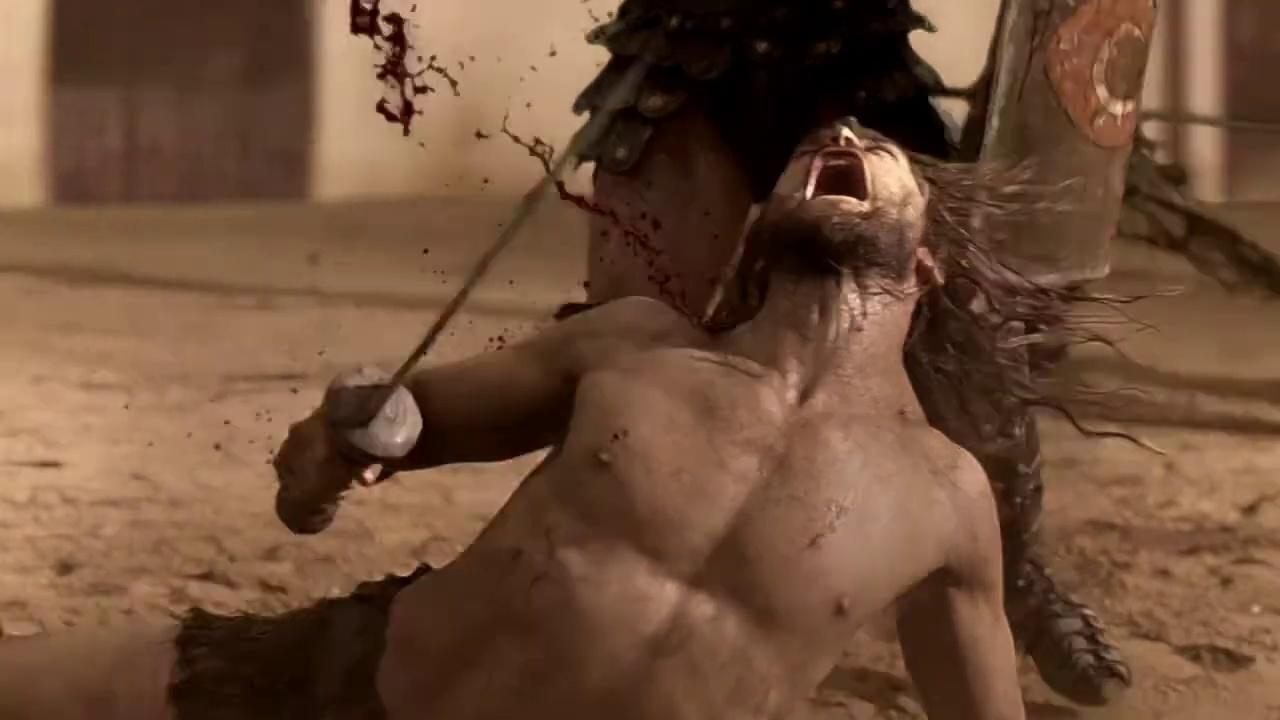Fire: (502, 112, 719, 318), (349, 0, 458, 134)
